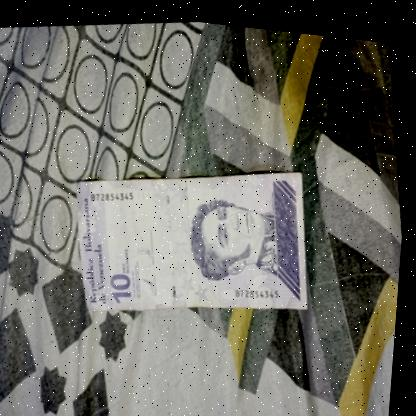ten-front-vef: (69, 145, 322, 332)
